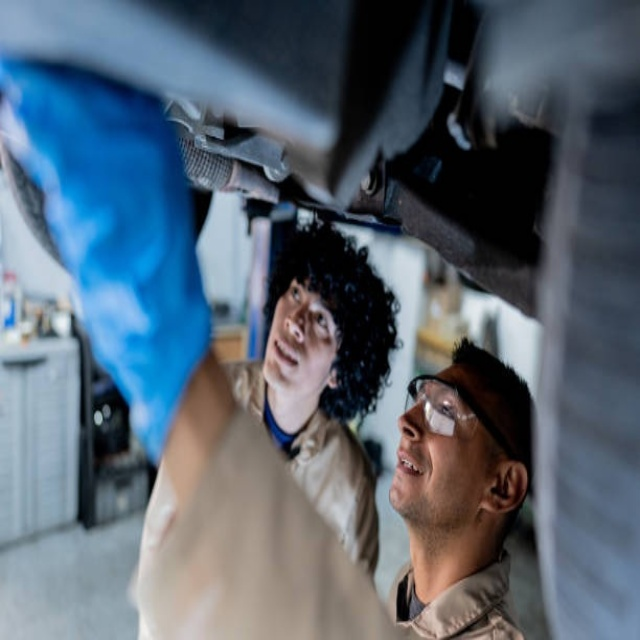Gafas: (406, 372, 518, 455)
Sin_gafas: (284, 281, 333, 337)
Sin_mascara: (389, 439, 430, 508), (269, 333, 302, 389)
